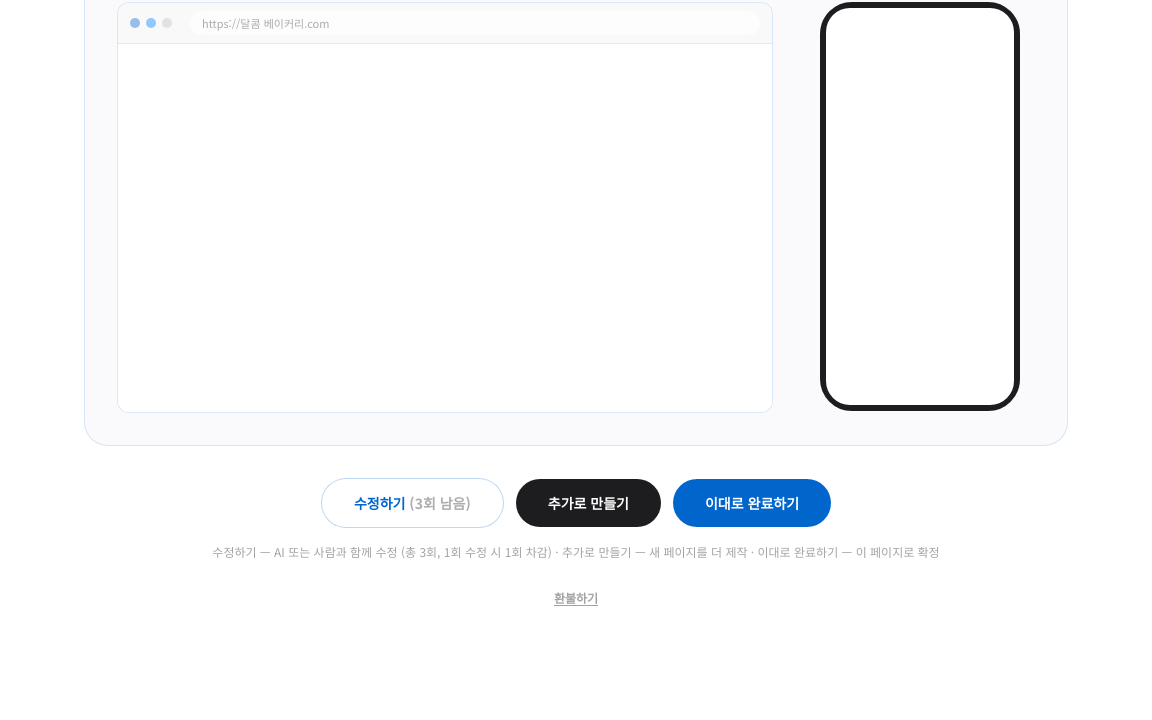
Test: OrderResultPage 환불 › 이유 없이는 환불 확정이 막히고, 이유를 적으면 환불 완료 토스트가 뜬다
(page scrolled)
Step 1. Click the button "환불하기" → [576, 598], box [554,590,598,606]
(page scrolled)
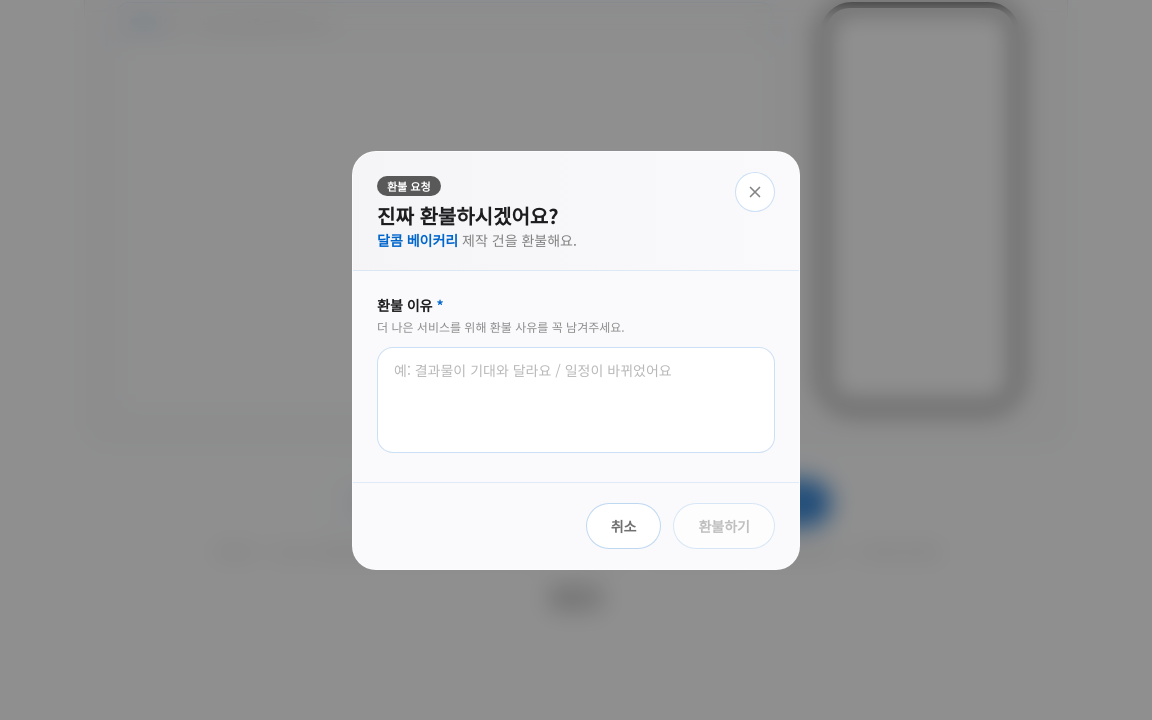
Expected: the button "환불하기" is disabled, [674,502,775,548]
Step 2. Type "결과물이 기대와 달라요" into the text box labelled "환불 이유 *" → [576, 400], box [377,346,775,452]
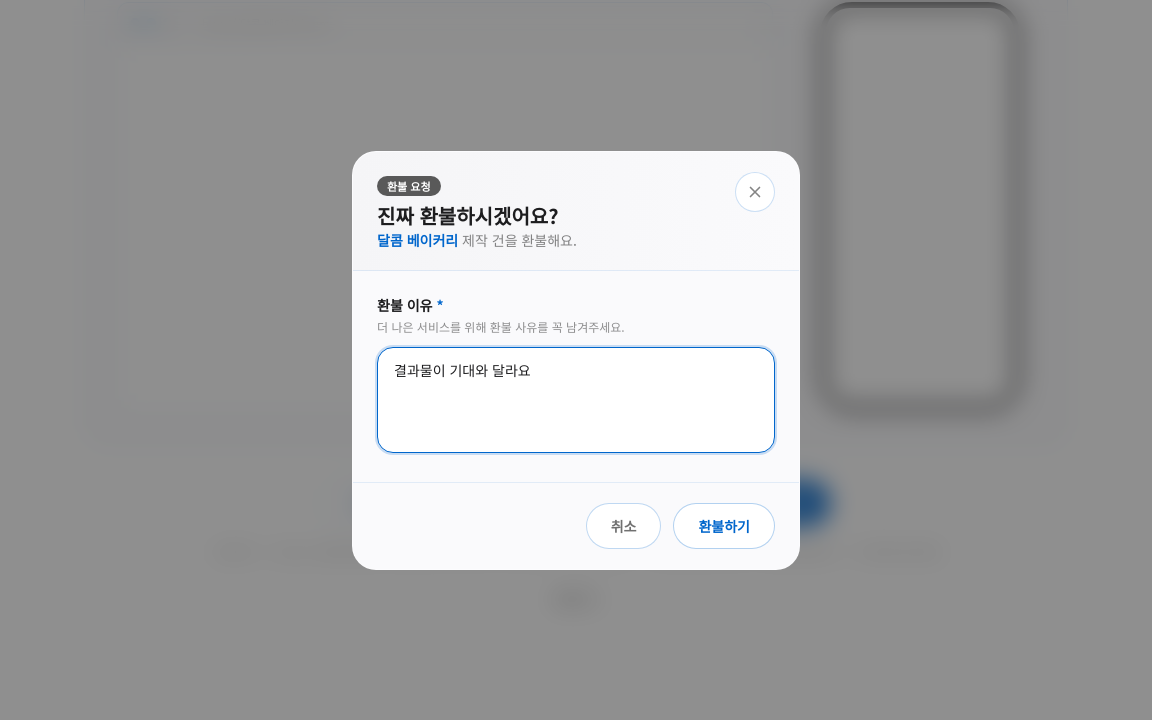
Step 3. Click the button "환불하기" → [724, 526], box [674,502,775,548]
(page scrolled)
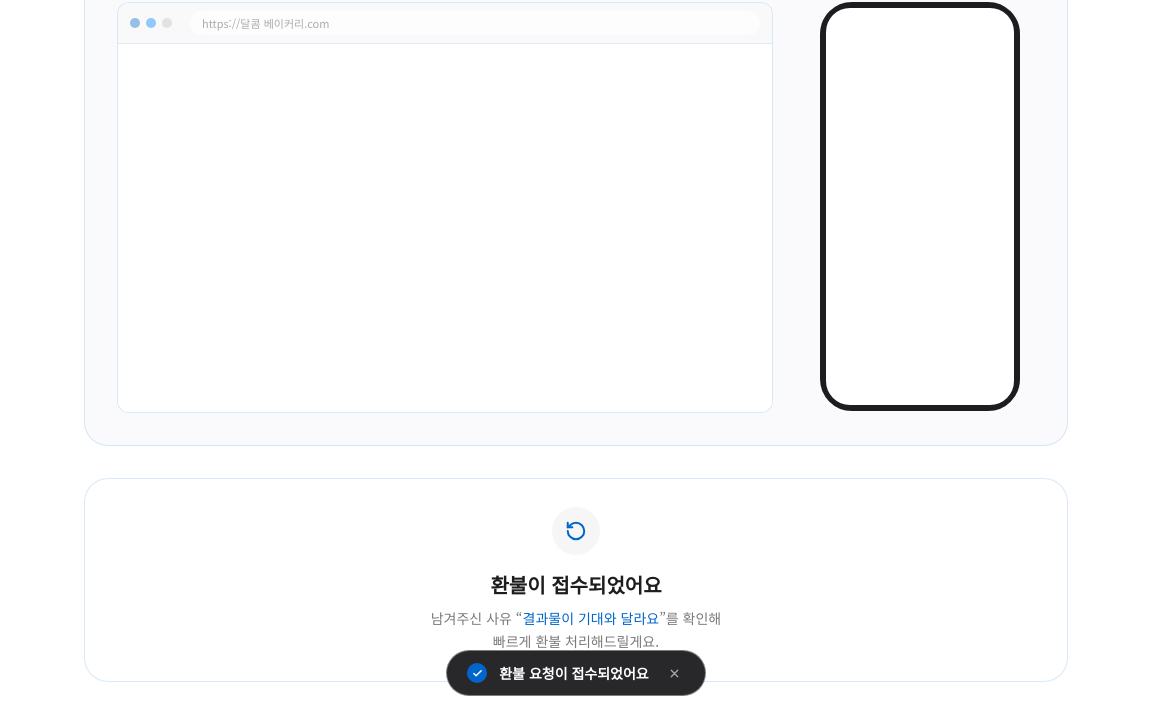
Expected: the text "환불 요청이 접수되었어요" is shown, [446,650,706,696]
Expected: the text "결과물이 기대와 달라요" is shown, [522,608,659,628]
